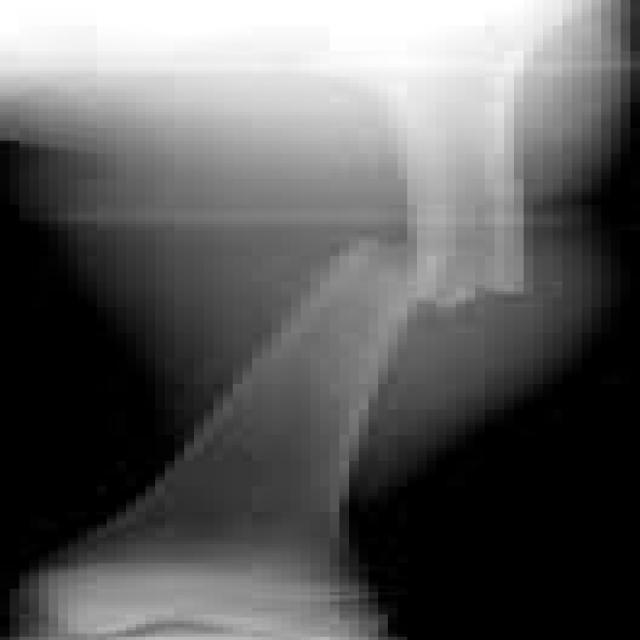Broken: (11, 240, 420, 636), (320, 55, 509, 307)
